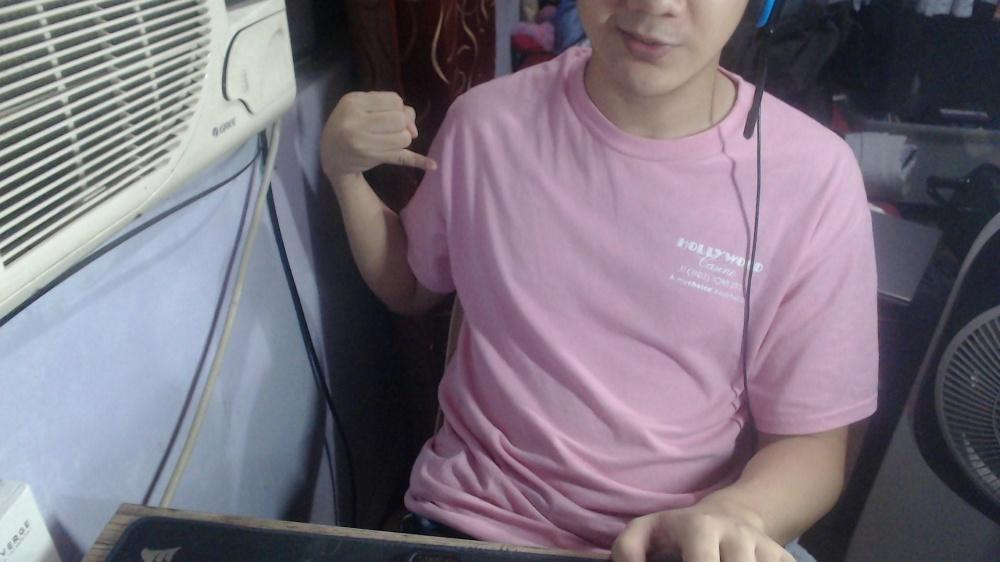j: (316, 84, 441, 185)
